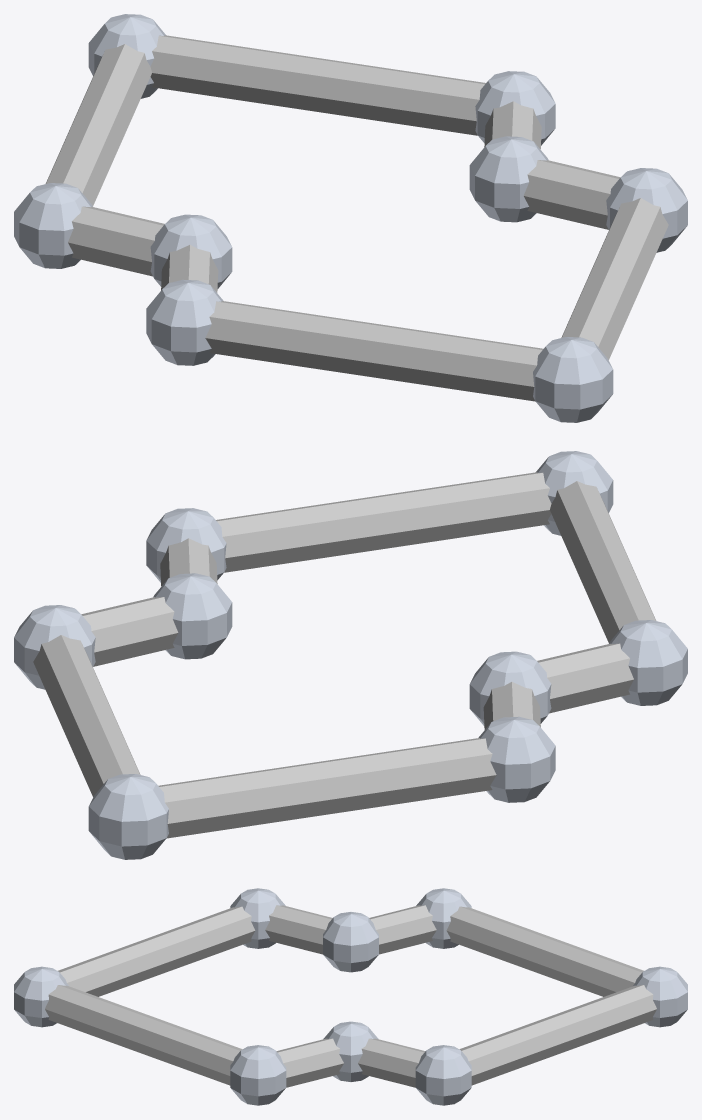
Rendered from unit_cell_arrowhead_linkage.obj.
3 views of the same model, one above another, from view 1: azimuth 30°, elevation 25°; view 2: azimuth 150°, elevation 25°; view 3: azimuth 270°, elevation 25° (orthographic). The views are drawn at different scales.
Visible parts, largest first — view 1: links, pins; view 2: links, pins; view 3: links, pins.
Part boxes in pixels (x1,y1,x2,y2): links: [45, 35, 668, 401]; pins: [14, 14, 687, 422]; links: [33, 472, 656, 838]; pins: [14, 451, 687, 859]; links: [45, 905, 656, 1087]; pins: [14, 888, 687, 1105].
Size of the model in its own units: 34.76 by 5 by 54.52.
